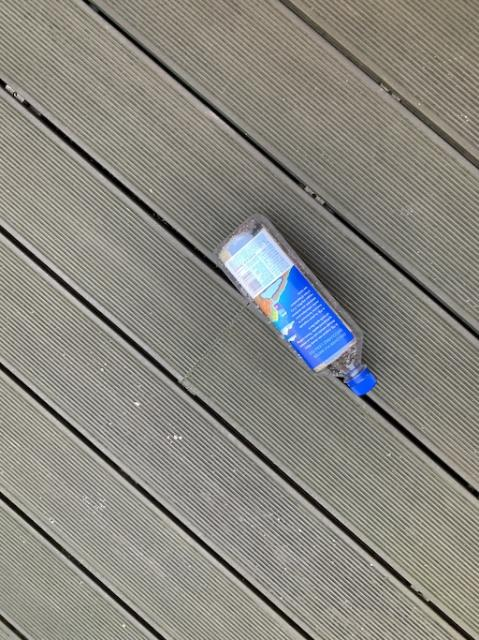plastic: (215, 214, 375, 394)
